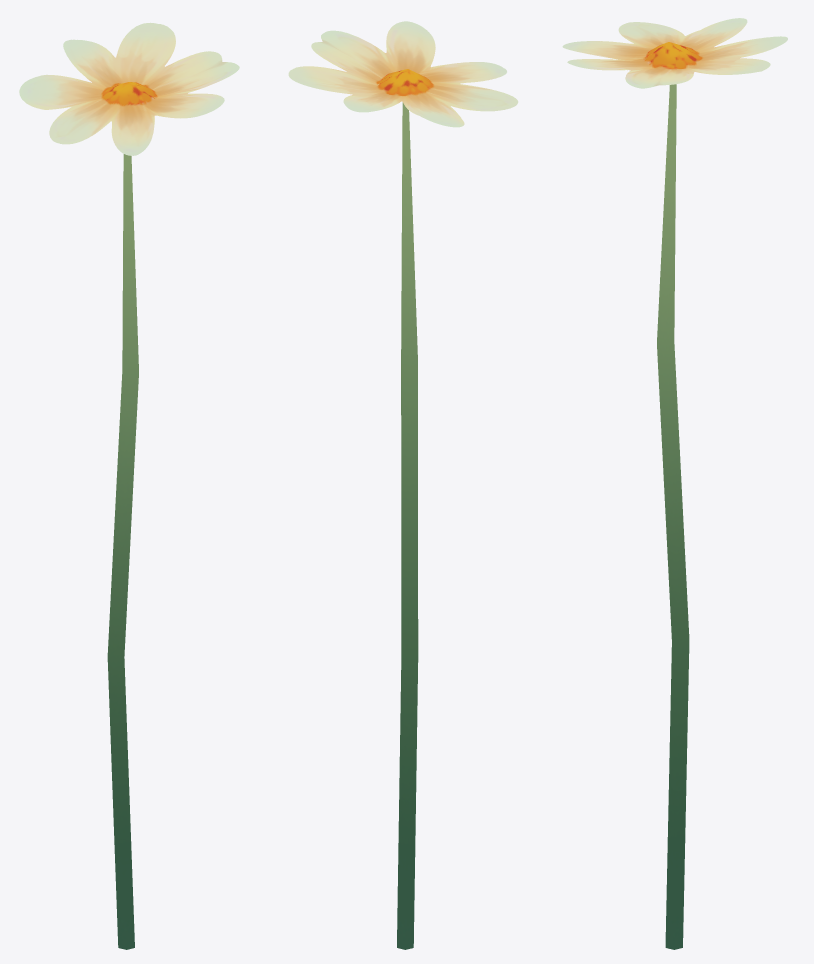
Rendered from chamomille_1.fbx.
3 views of the same model, side by side, from view 1: azimuth 30°, elevation 25°; view 2: azimuth 150°, elevation 25°; view 3: azimuth 270°, elevation 25° (orthographic). The views are drawn at different scales.
Visible parts, largest first — view 1: camomille_1_low; view 2: camomille_1_low; view 3: camomille_1_low.
Part boxes in pixels (bbox=[...]): camomille_1_low: bbox=[19, 22, 239, 949]; camomille_1_low: bbox=[288, 21, 518, 949]; camomille_1_low: bbox=[562, 18, 787, 949].
Size of the model in its own units: 50.07 by 208 by 50.13.
